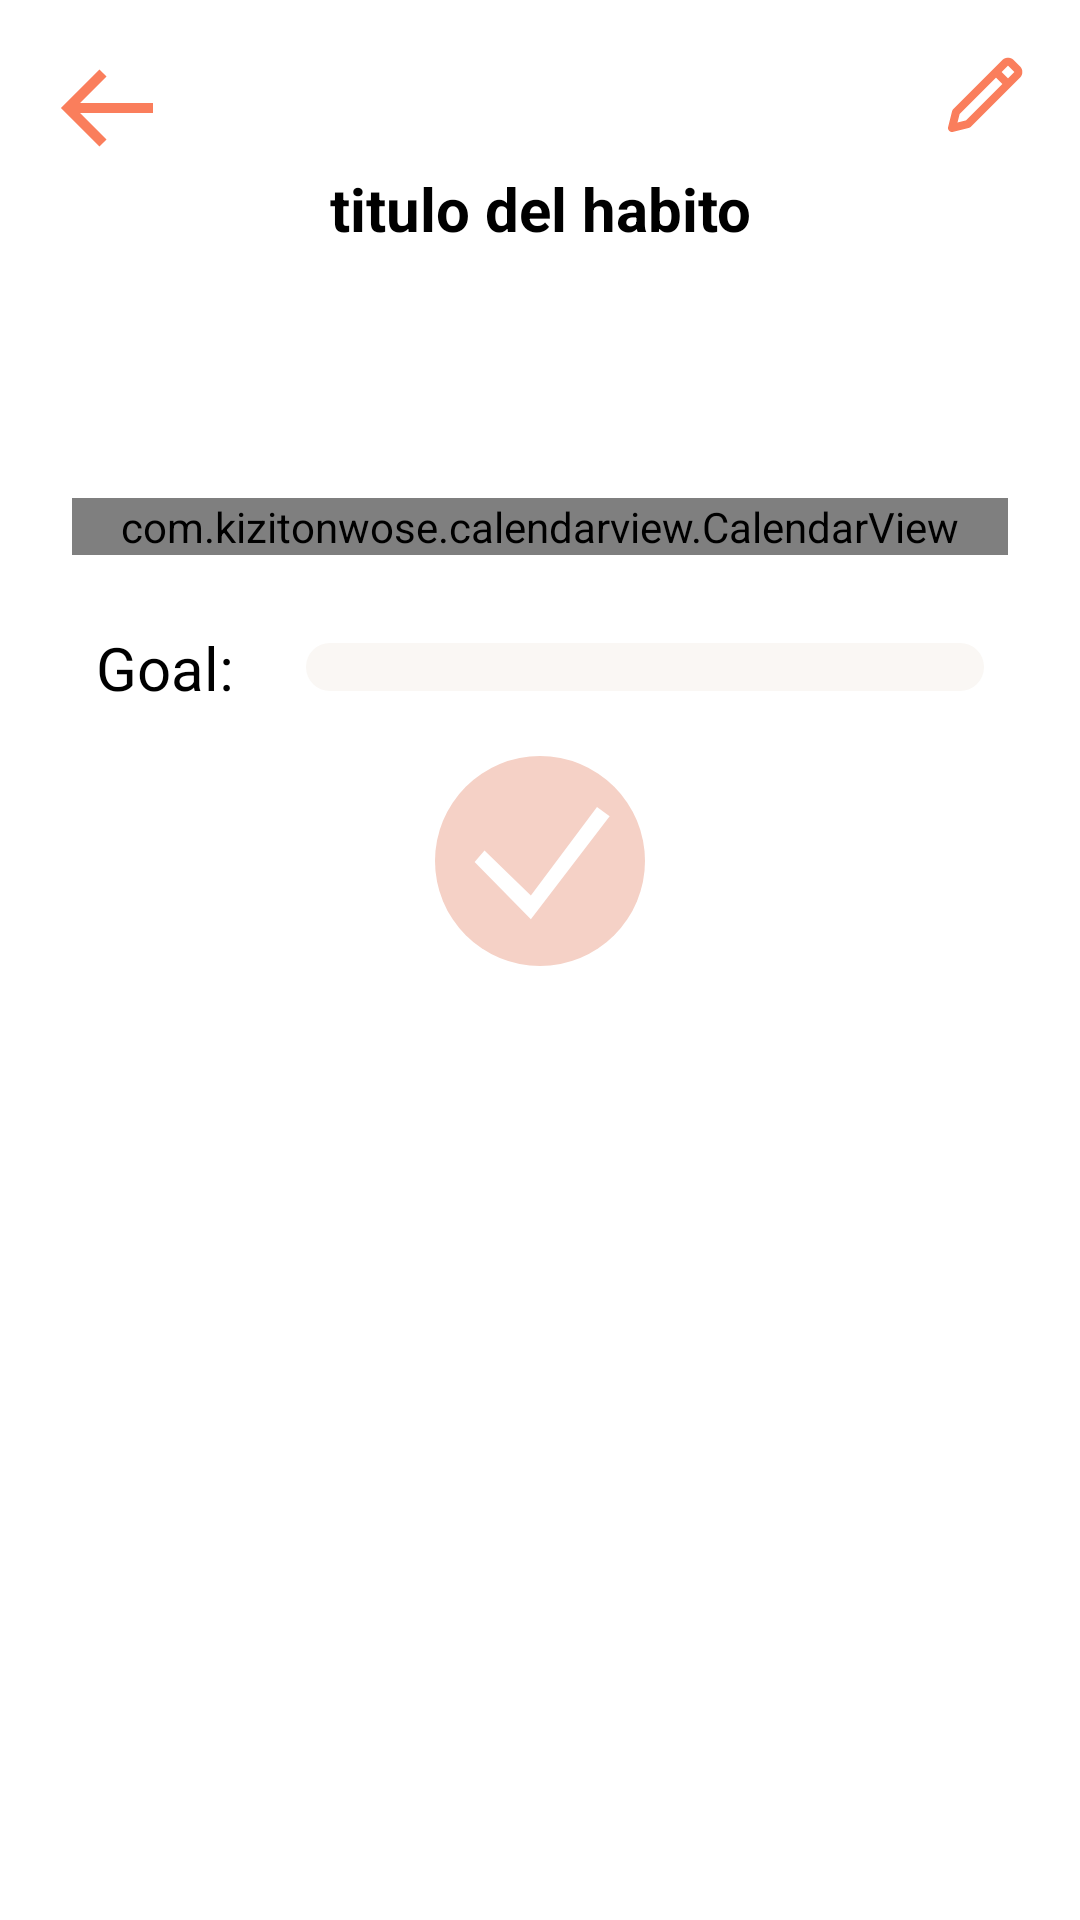

Icons on this 1080 × 1920 Android screen, each with the point to tap as point (x, y):
back: point (107, 108)
pencil: point (985, 94)
tick: point (540, 861)
